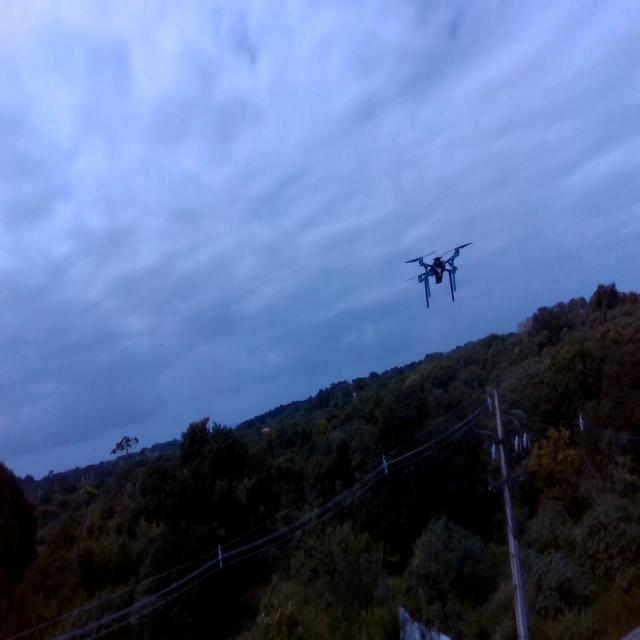-uav-: (398, 234, 475, 317)
